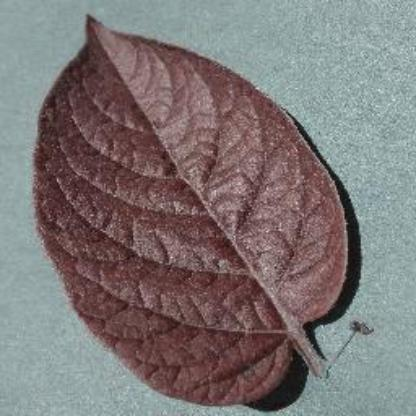Healthy-plant: (34, 7, 386, 409)
